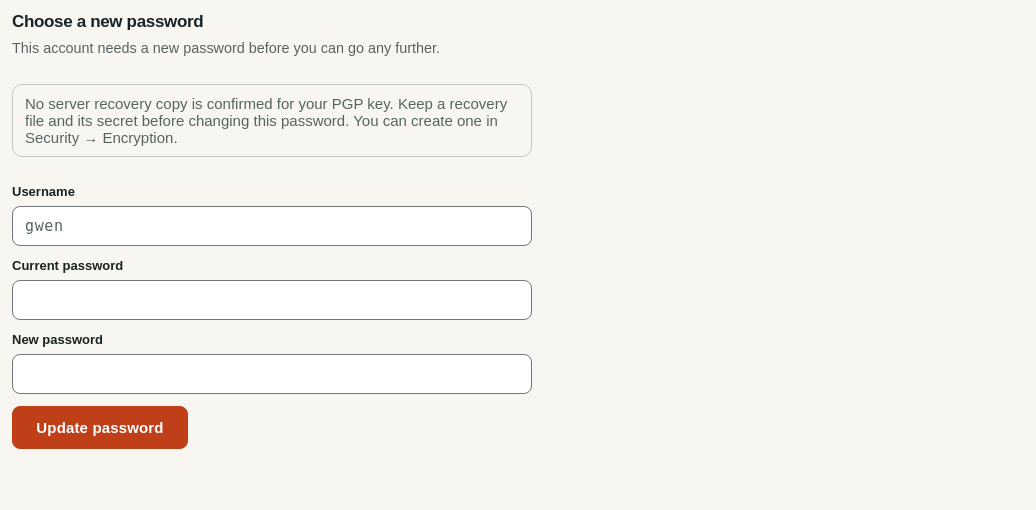
Test: shows stale-write failure without retrying or reporting success
Type "currentpassword" into the password field labelled "Current password".
click(272, 300); type("currentpassword")  # box x1=12 y1=280 x2=532 y2=320
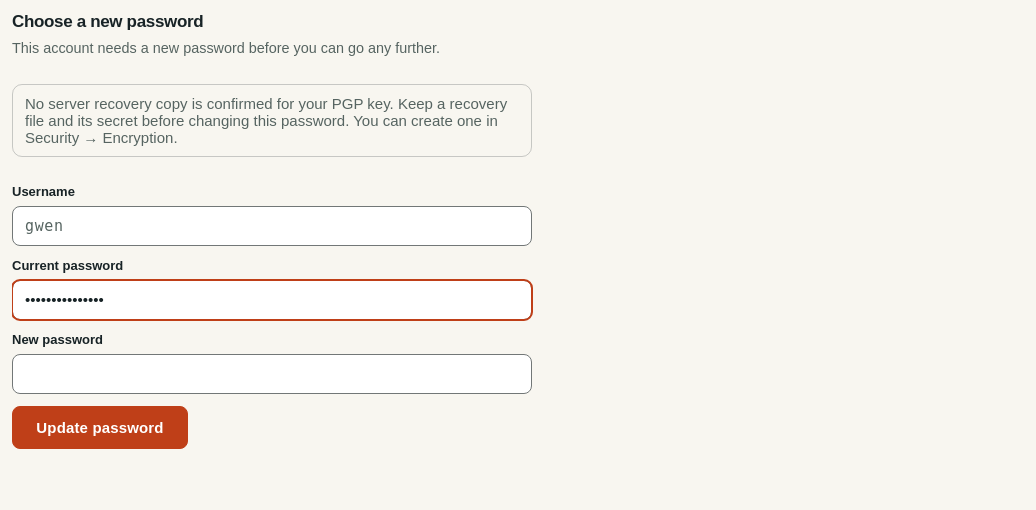
Type "a-long-enough-password" into the password field labelled "New password".
click(272, 374); type("a-long-enough-password")  # box x1=12 y1=354 x2=532 y2=394
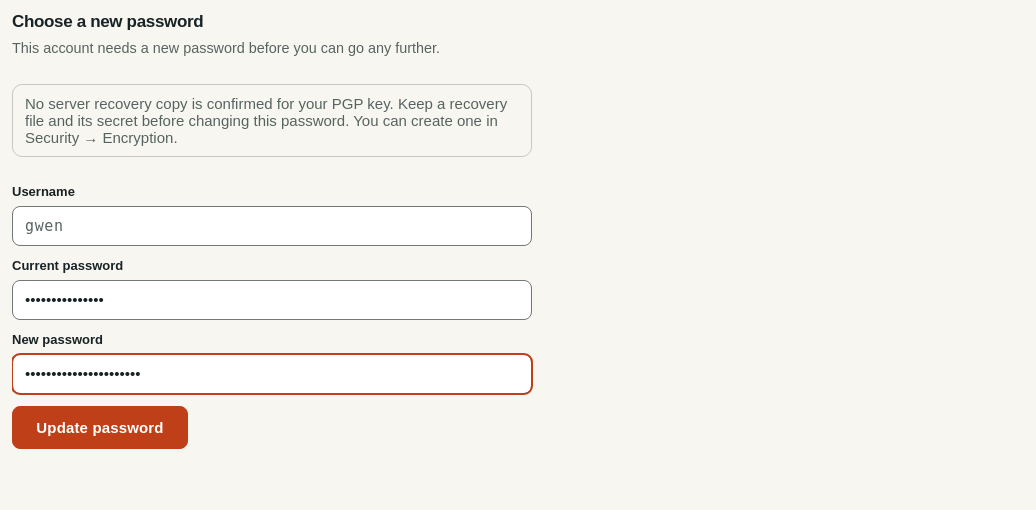
Click the button "Update password".
click(100, 427)  # box x1=12 y1=406 x2=188 y2=449
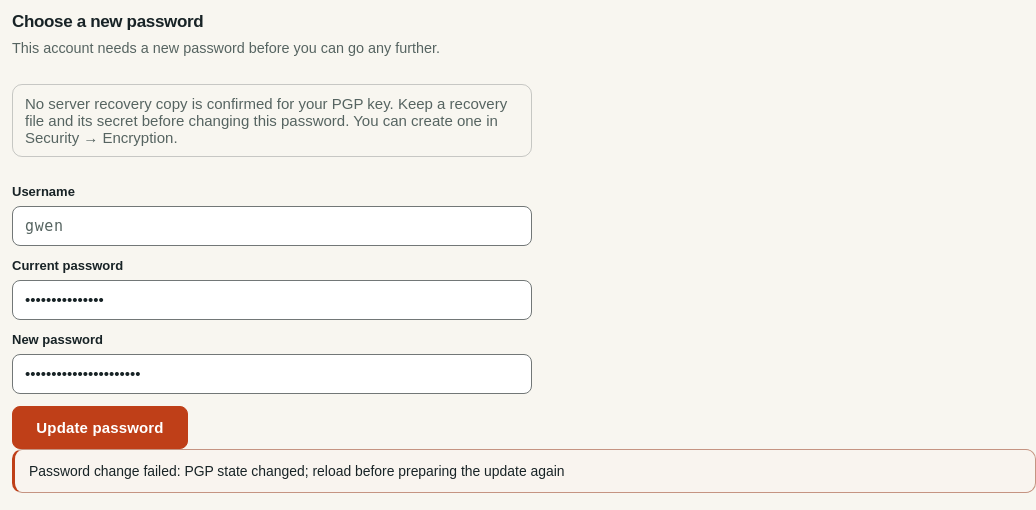
Check: the message shows "PGP state changed; reload", box x1=29 y1=463 x2=564 y2=479
